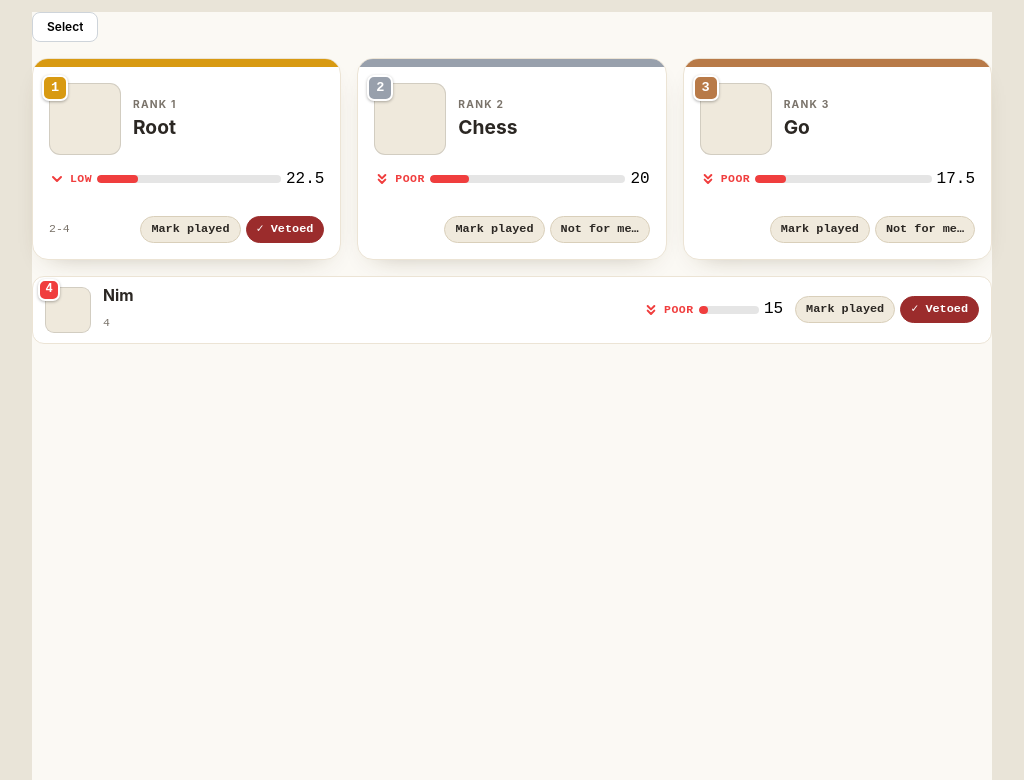
Test: GamesList › vetoes › bulk select › keeps only failed ids after a partial failure
Click the button "Select": (65, 27) [32,12,98,42]
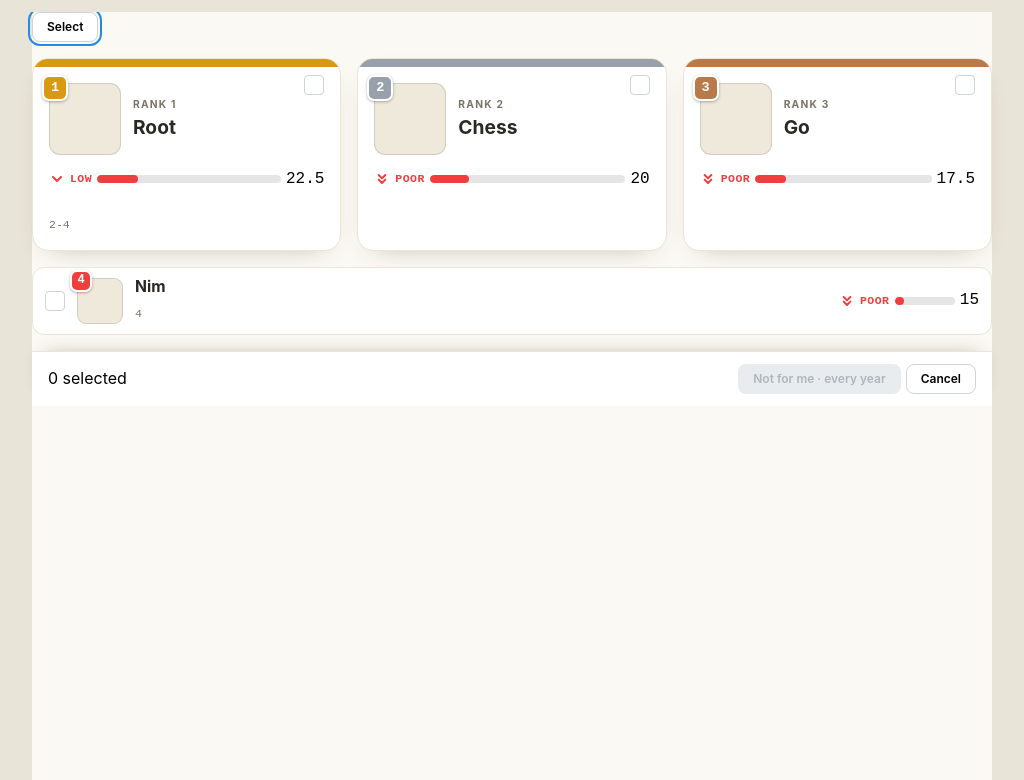
Click the checkbox named "Select Chess": (640, 85) [630,75,650,95]
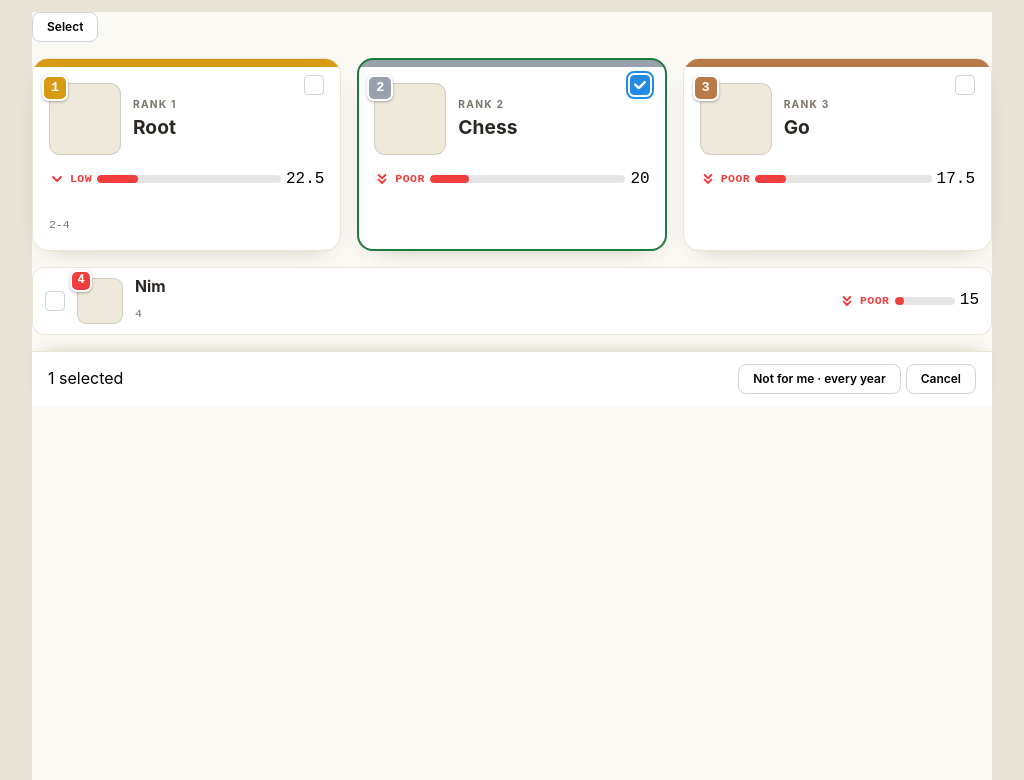
Click the checkbox named "Select Go": (965, 85) [955,75,975,95]
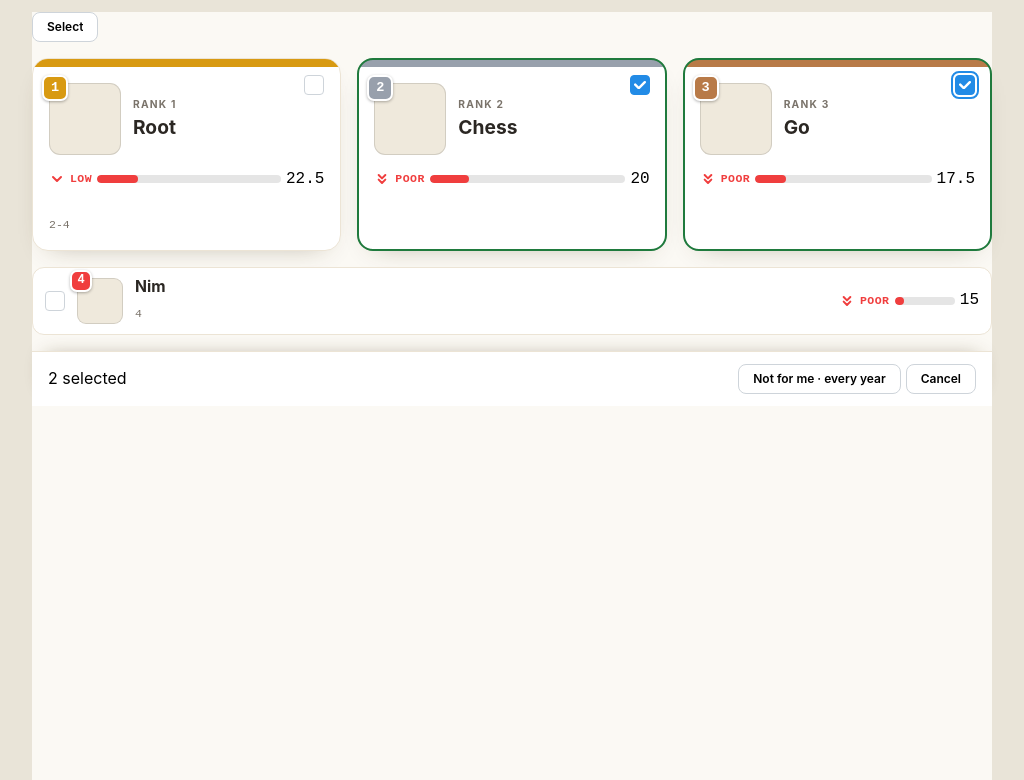
Click the button "Not for me · every year": (819, 379) [738,364,901,394]
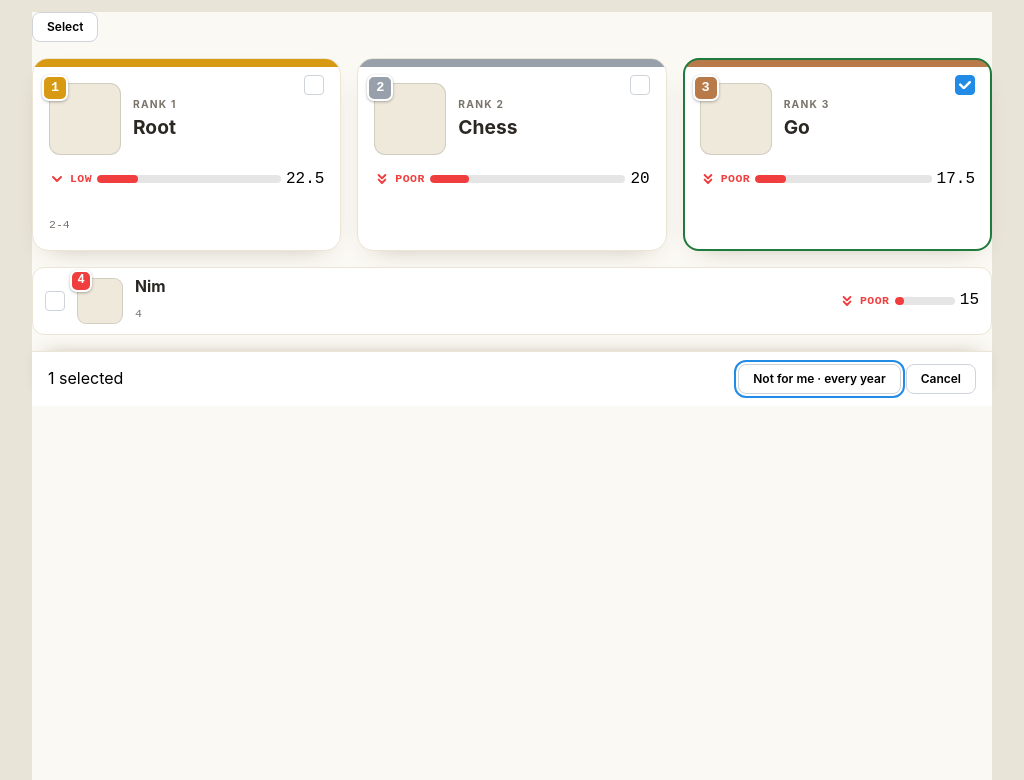
Result: the checkbox named "Select Go" is checked at [955,75,975,95]
Result: the checkbox named "Select Chess" is not checked at [630,75,650,95]
Result: the text "1 selected" is shown at [48,366,123,391]
